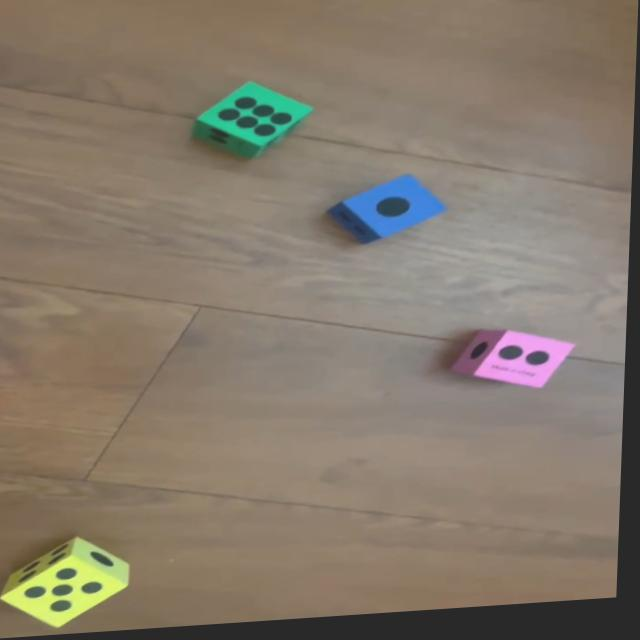cube: (197, 80, 314, 163), (328, 176, 454, 251)
